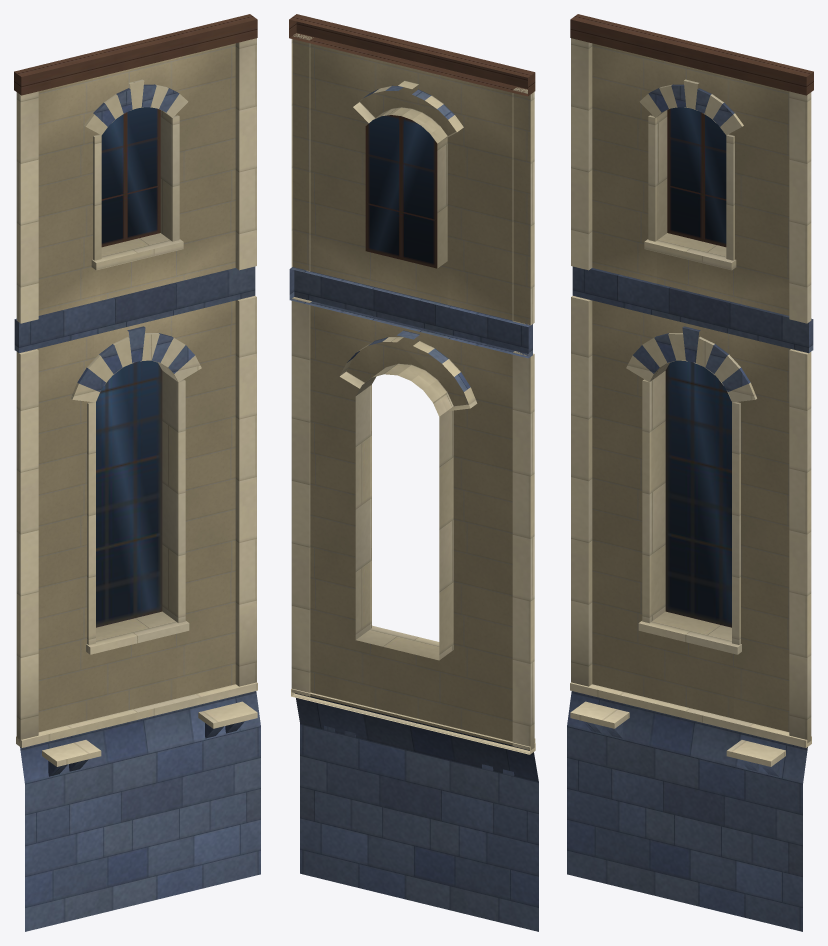
File: bay_hl_win.gltf
3 views of the same model, side by side, from view 1: azimuth 30°, elevation 25°; view 2: azimuth 150°, elevation 25°; view 3: azimuth 330°, elevation 25° (orthographic).
Visible parts, largest first — view 1: bay_hl_win; view 2: bay_hl_win; view 3: bay_hl_win.
Part boxes in pixels (x1=…): bay_hl_win: x1=14, y1=14, x2=260, y2=931; bay_hl_win: x1=289, y1=14, x2=538, y2=931; bay_hl_win: x1=567, y1=14, x2=813, y2=931.
Size of the model in its own units: 4 by 13.8 by 1.06.
3 materials, 3 textured.
